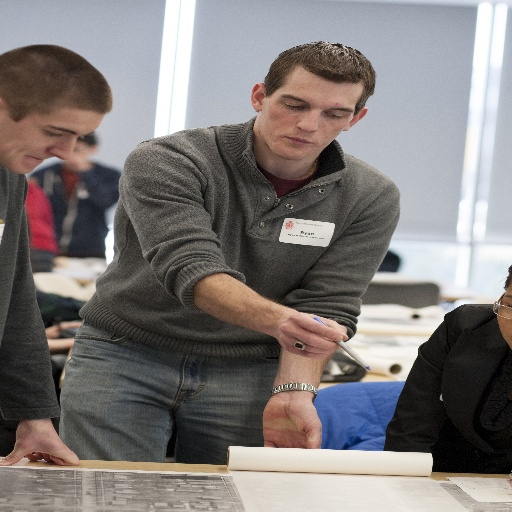hand: (234, 300, 359, 363), (0, 418, 80, 465), (261, 398, 322, 449), (44, 321, 82, 338)
